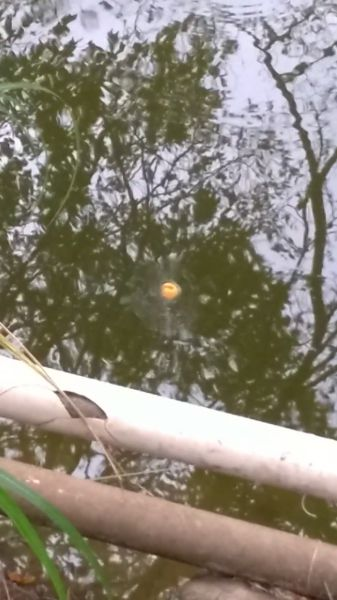eggs: (155, 277, 182, 299)
